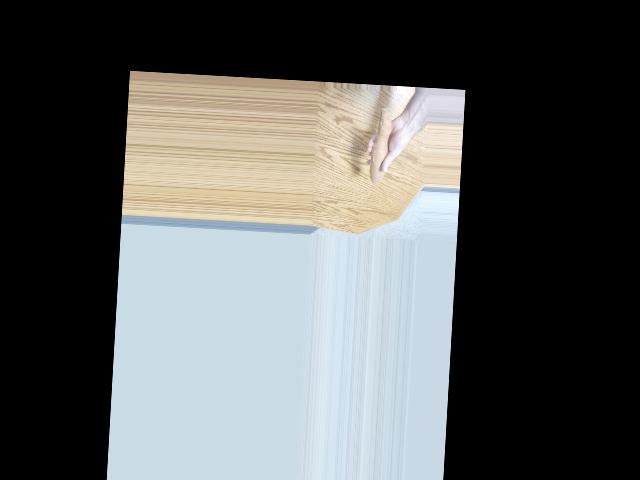sweet_potato: (368, 105, 396, 188)
